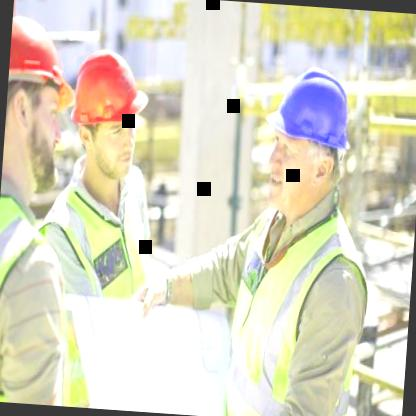helmet: (252, 47, 365, 230), (0, 0, 79, 198), (62, 36, 157, 192)
